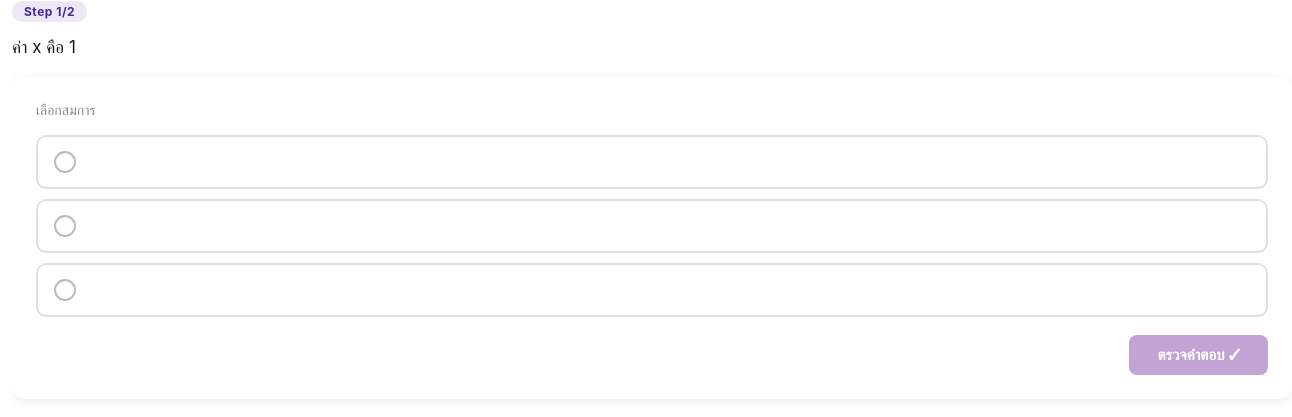
correct pick advances to the compute step
Expected: the text "Step 1/2" is shown, left=12, top=1, right=87, bottom=22
Click the radio button named "v_f^2 = v_i^2 + 2ad". click: point(652, 226)
box: left=36, top=199, right=1268, bottom=253
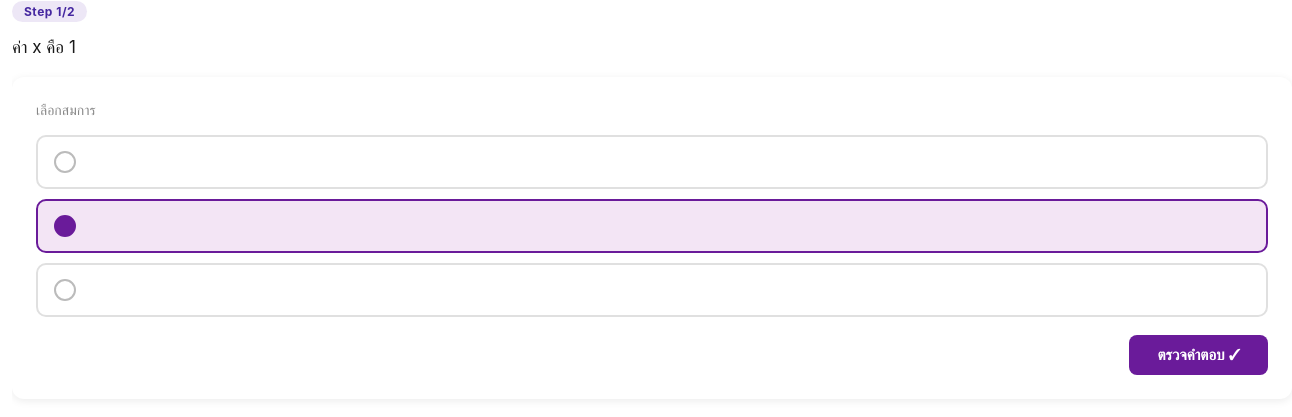
Click the button "ตรวจคำตอบ ✓". click: point(1199, 355)
box: left=1130, top=335, right=1268, bottom=375
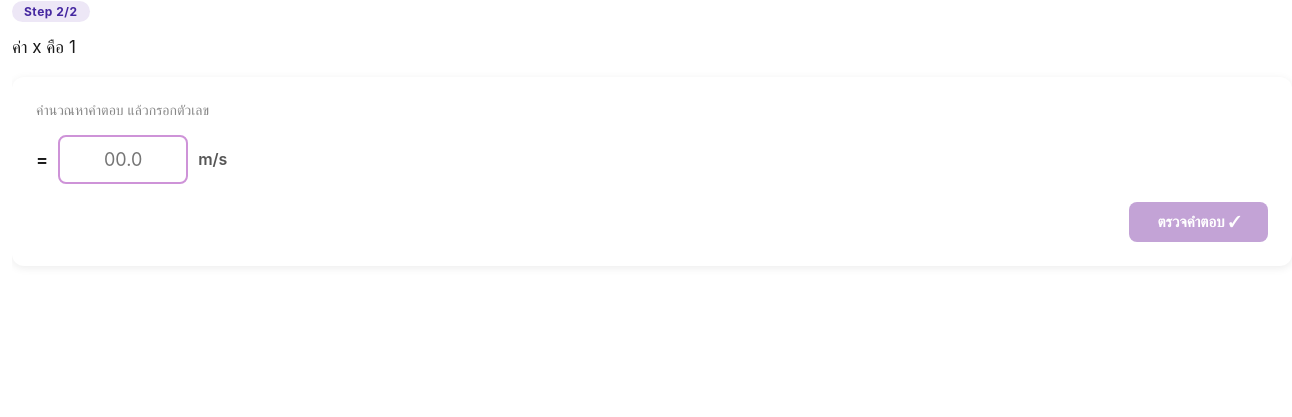
Result: the text "Step 2/2" is shown at left=12, top=1, right=90, bottom=22
